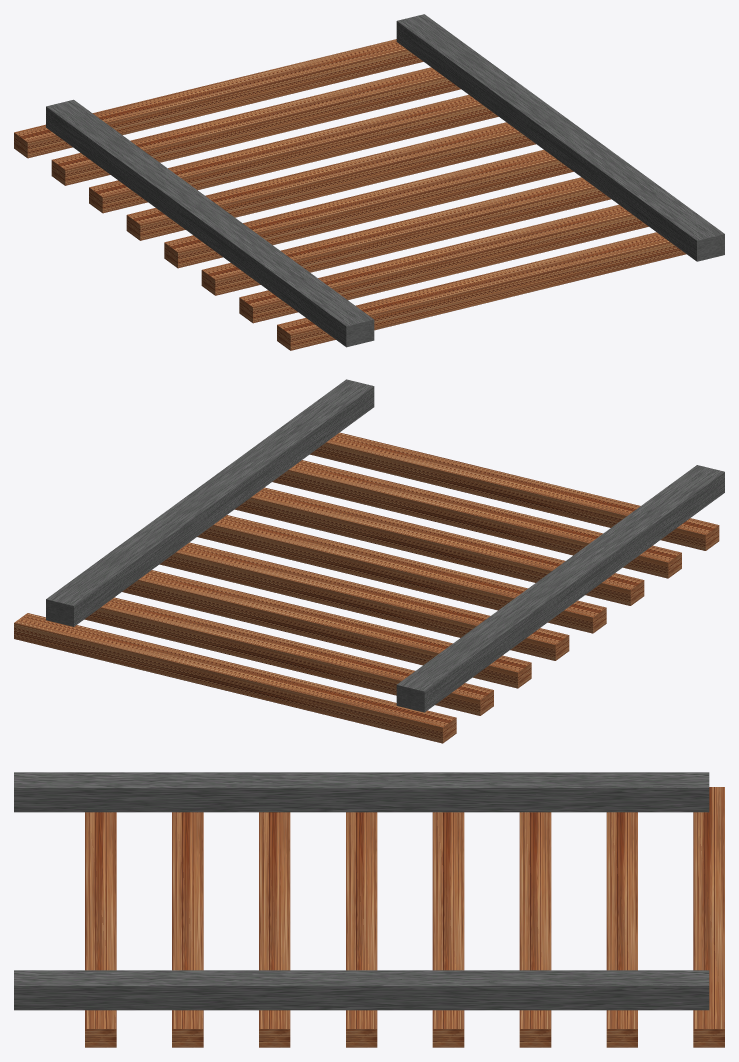
File: PayloadTrackStraight.glb
3 renders of one model, top to bottom at view 1: azimuth 30°, elevation 25°; view 2: azimuth 150°, elevation 25°; view 3: azimuth 270°, elevation 25°, orthographic. The views are drawn at different scales.
Visible parts, largest first — view 1: MeshInstance3D, MeshInstance3D2, MeshInstance3D10, MeshInstance3D8, MeshInstance3D4, MeshInstance3D6, MeshInstance3D7, MeshInstance3D9, MeshInstance3D3, MeshInstance3D5; view 2: MeshInstance3D2, MeshInstance3D, MeshInstance3D7, MeshInstance3D6, MeshInstance3D4, MeshInstance3D8, MeshInstance3D10, MeshInstance3D5, MeshInstance3D3, MeshInstance3D9; view 3: MeshInstance3D, MeshInstance3D2, MeshInstance3D7, MeshInstance3D4, MeshInstance3D5, MeshInstance3D9, MeshInstance3D10, MeshInstance3D3, MeshInstance3D6, MeshInstance3D8.
Boxes of the visible parts, <box> form: MeshInstance3D: <box>396,14,724,261</box>; MeshInstance3D2: <box>46,99,374,347</box>; MeshInstance3D10: <box>277,232,686,350</box>; MeshInstance3D8: <box>201,177,611,295</box>; MeshInstance3D4: <box>126,122,535,240</box>; MeshInstance3D6: <box>51,67,460,185</box>; MeshInstance3D7: <box>14,39,423,158</box>; MeshInstance3D9: <box>239,205,648,323</box>; MeshInstance3D3: <box>164,149,573,268</box>; MeshInstance3D5: <box>89,94,498,213</box>; MeshInstance3D2: <box>396,465,724,712</box>; MeshInstance3D: <box>46,379,374,626</box>; MeshInstance3D7: <box>14,613,456,743</box>; MeshInstance3D6: <box>84,597,493,715</box>; MeshInstance3D4: <box>159,542,569,660</box>; MeshInstance3D8: <box>234,487,644,605</box>; MeshInstance3D10: <box>310,432,719,550</box>; MeshInstance3D5: <box>122,570,531,688</box>; MeshInstance3D3: <box>197,515,606,633</box>; MeshInstance3D9: <box>272,460,681,578</box>; MeshInstance3D: <box>14,970,709,1010</box>; MeshInstance3D2: <box>14,772,709,812</box>; MeshInstance3D7: <box>693,787,724,1047</box>; MeshInstance3D4: <box>432,812,464,1047</box>; MeshInstance3D5: <box>519,812,551,1047</box>; MeshInstance3D9: <box>172,812,203,1047</box>; MeshInstance3D10: <box>85,812,116,1047</box>; MeshInstance3D3: <box>346,812,377,1047</box>; MeshInstance3D6: <box>606,812,637,1047</box>; MeshInstance3D8: <box>259,812,290,1047</box>.
Bounding box in the file's own units: 1.65 × 0.1501 × 2.05.
2 materials, 2 textured.
